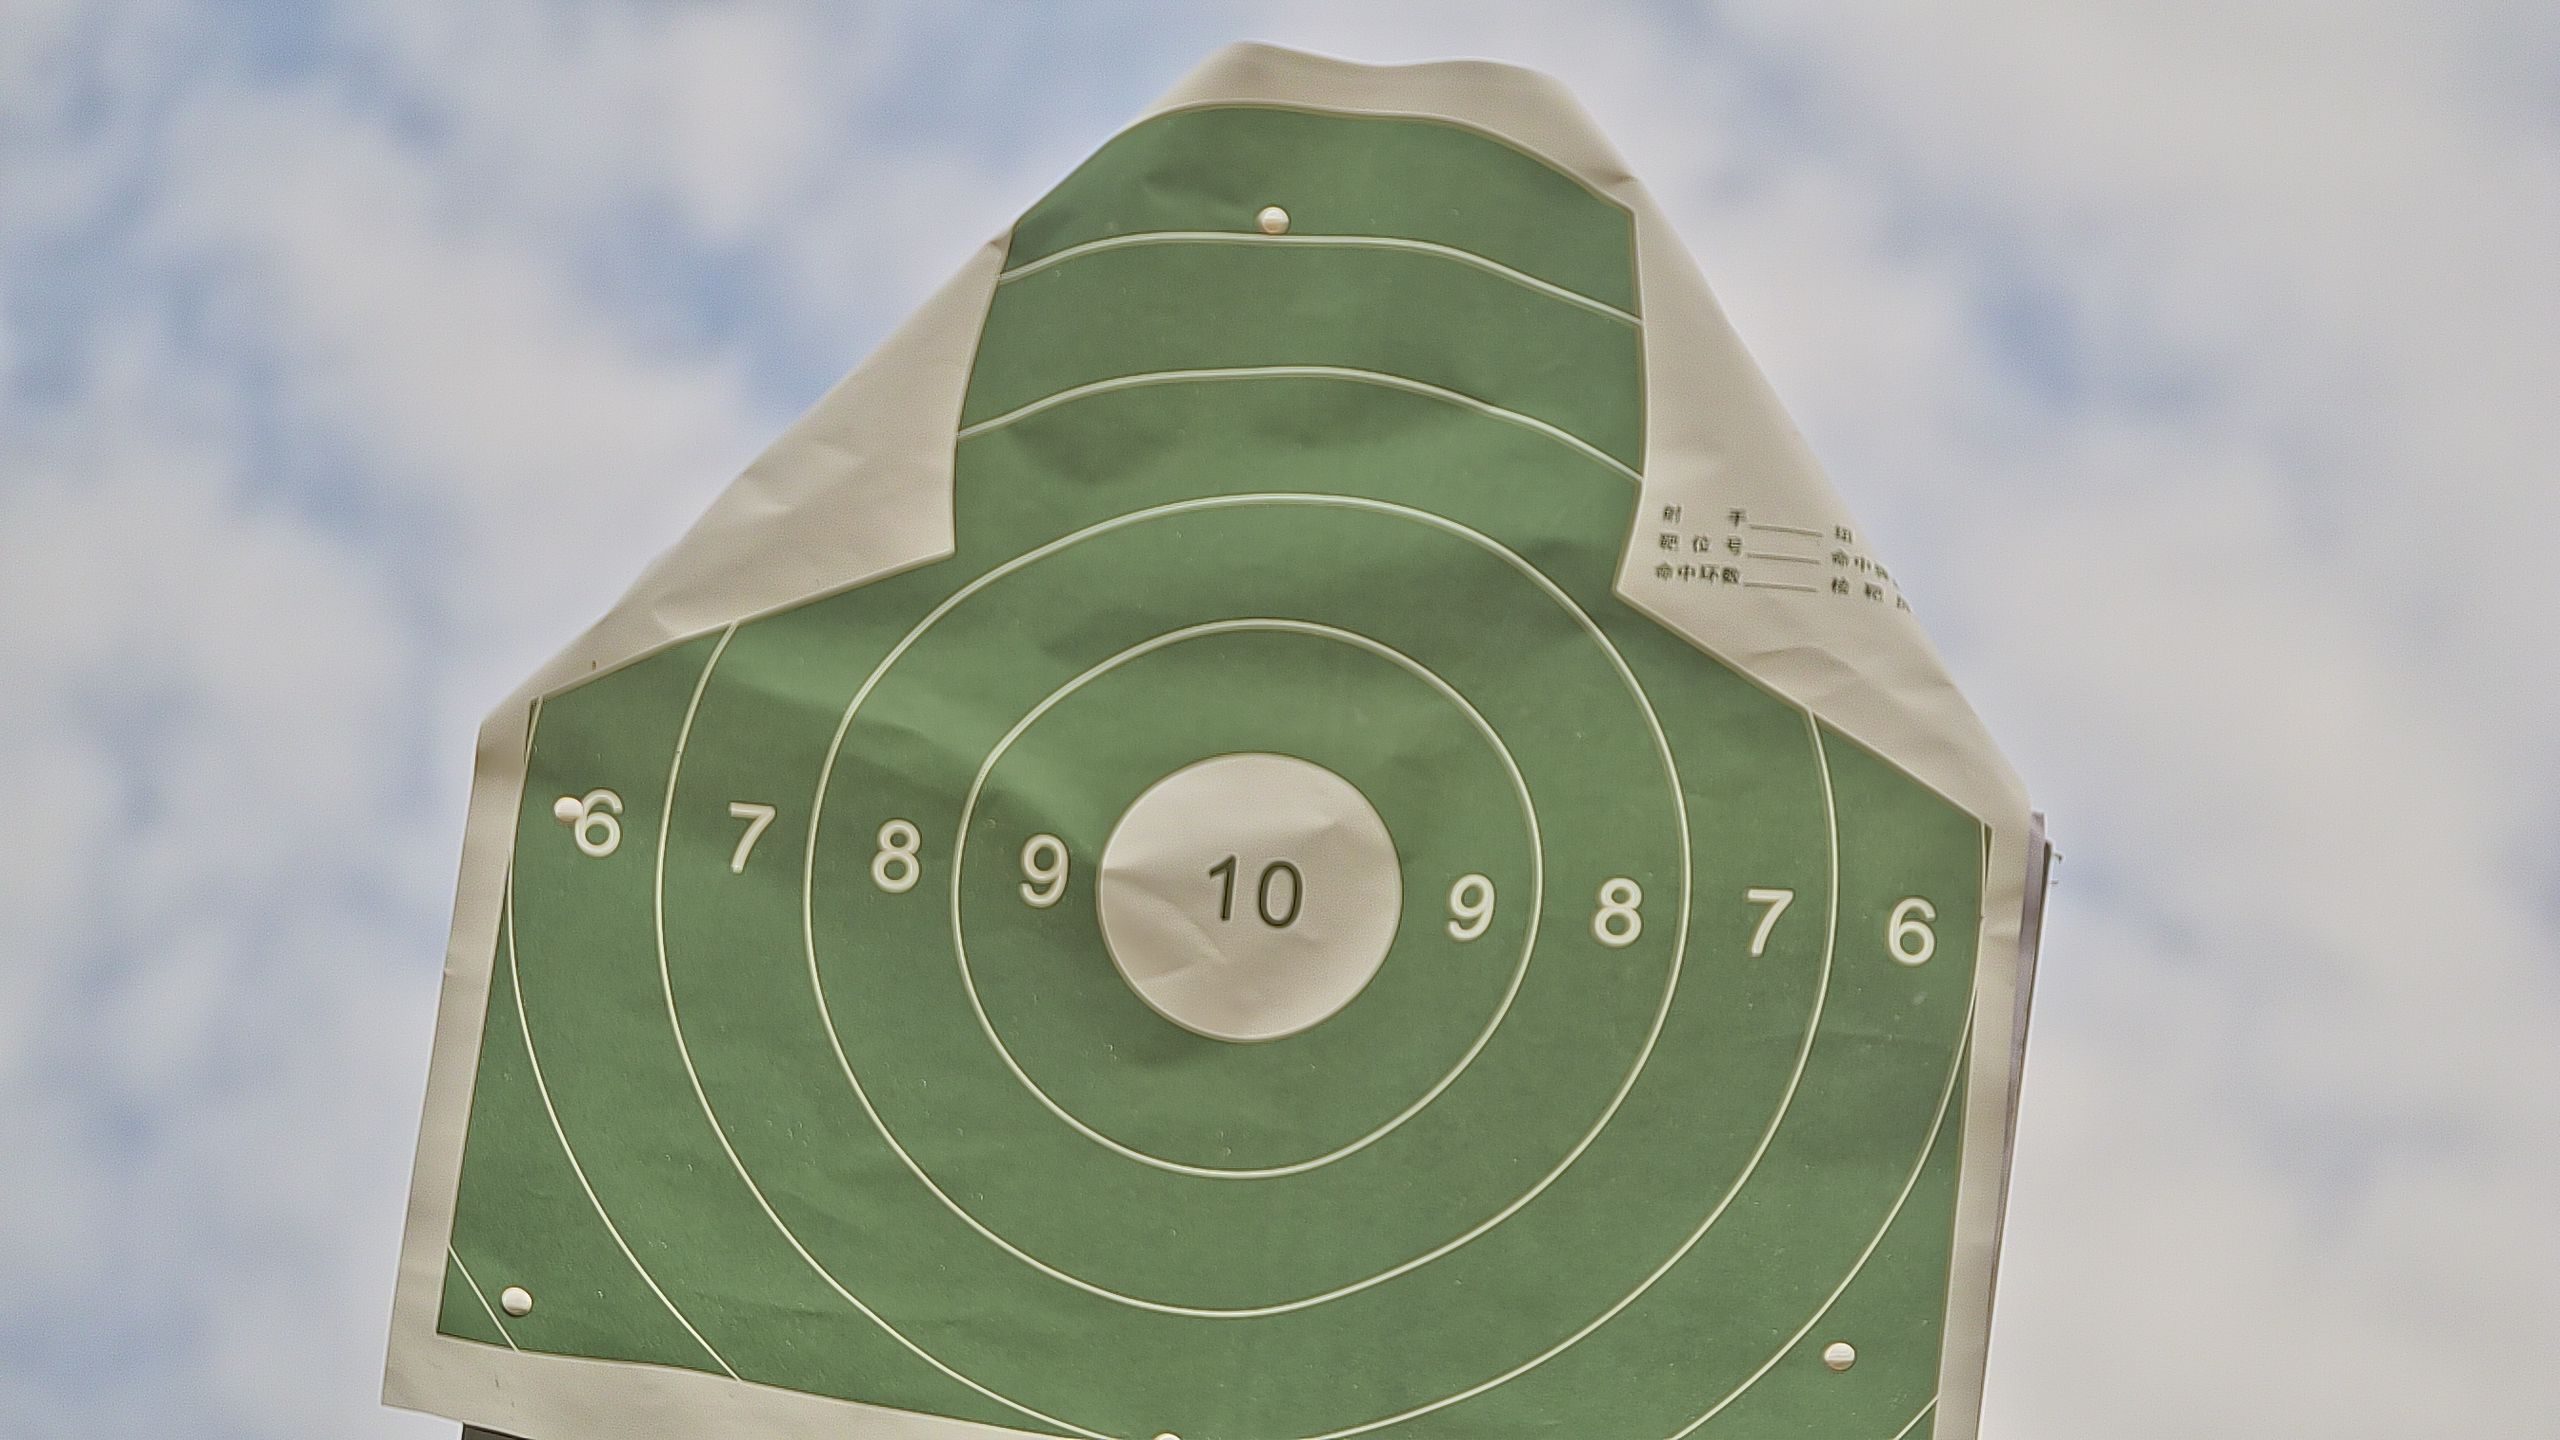kernel: (1245, 890, 1247, 897)
target: (433, 105, 1997, 1440)
ten: (1095, 754, 1405, 1044)
